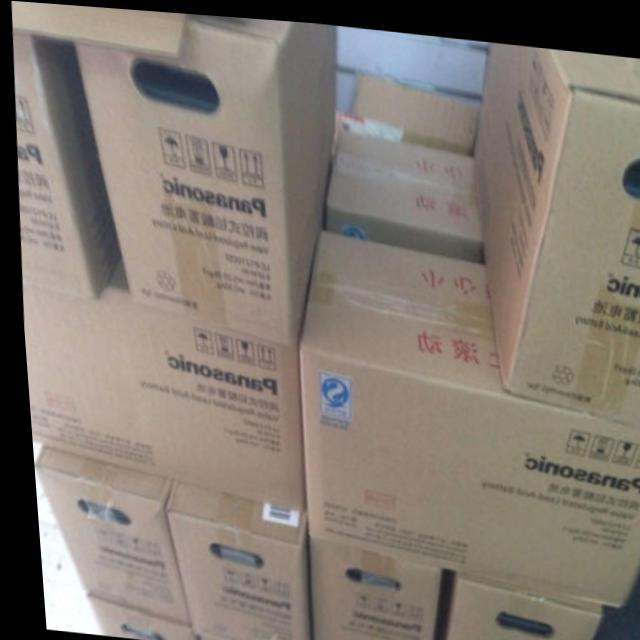box: (292, 224, 640, 599), (72, 11, 336, 343), (19, 253, 298, 507), (469, 35, 640, 418), (27, 445, 181, 625), (13, 31, 116, 298), (156, 478, 302, 640), (321, 124, 482, 256), (300, 533, 432, 640), (431, 563, 594, 640), (349, 67, 476, 147), (12, 1, 185, 57), (77, 594, 189, 640)
